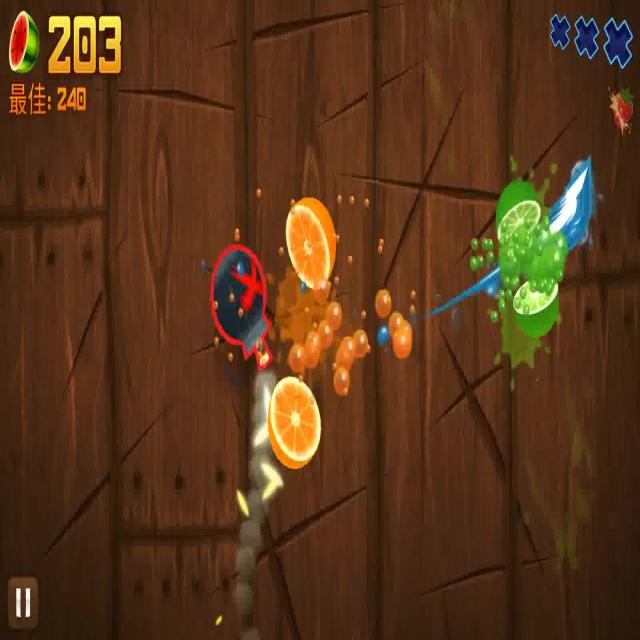bomb: (207, 238, 276, 368)
fruit: (281, 184, 337, 295), (266, 379, 322, 474), (496, 157, 544, 245), (509, 270, 563, 346)
